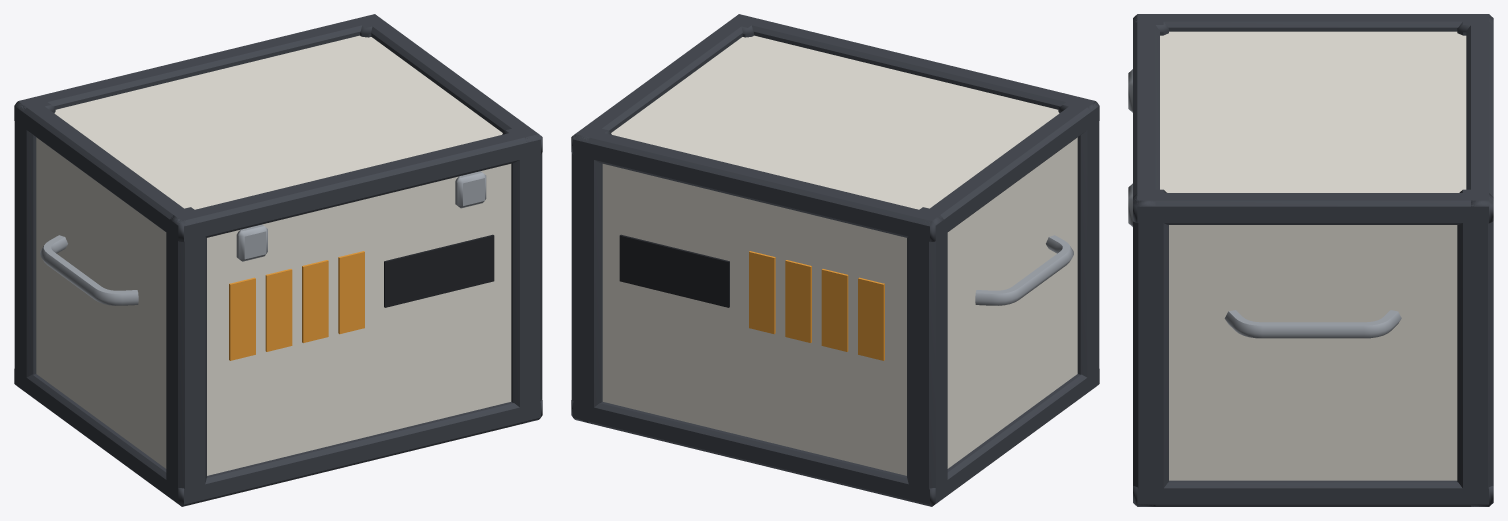
The model's file is crate_v4.glb.
The picture shows the model from 3 angles, left to right: view 1: azimuth 30°, elevation 25°; view 2: azimuth 150°, elevation 25°; view 3: azimuth 270°, elevation 25°; orthographic projection. The views are drawn at different scales.
Parts seen in each view (by area): view 1: crate; view 2: crate; view 3: crate.
Boxes of the visible parts, x1,y1,x2,y2 form: crate: (14,14,542,506); crate: (571,14,1099,506); crate: (1128,14,1493,506).
Size of the model in its own units: 1.16 by 0.75 by 0.81.
